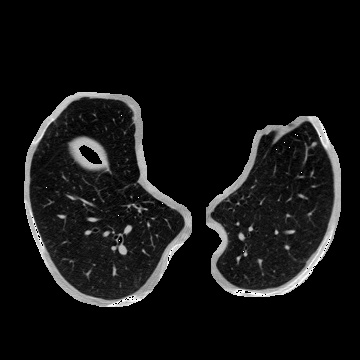PN: (312, 142, 316, 146)
